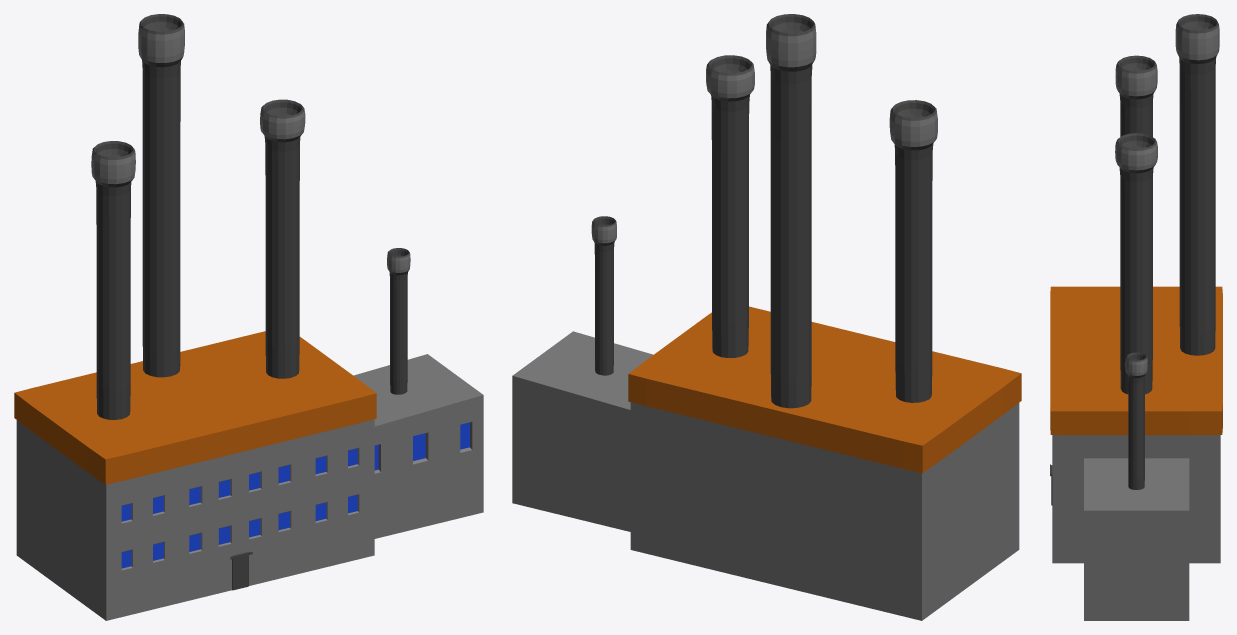
File: zavod.fbx
3 views of the same model, side by side, from view 1: azimuth 30°, elevation 25°; view 2: azimuth 150°, elevation 25°; view 3: azimuth 270°, elevation 25° (orthographic). The views are drawn at different scales.
Parts seen in each view (by area): view 1: Cube; view 2: Cube; view 3: Cube.
Boxes of the visible parts, x1=… form: Cube: x1=14, y1=14, x2=483, y2=620; Cube: x1=512, y1=14, x2=1021, y2=620; Cube: x1=1050, y1=14, x2=1222, y2=620.
Bounding box in the file's own units: 511 × 627 × 205.
